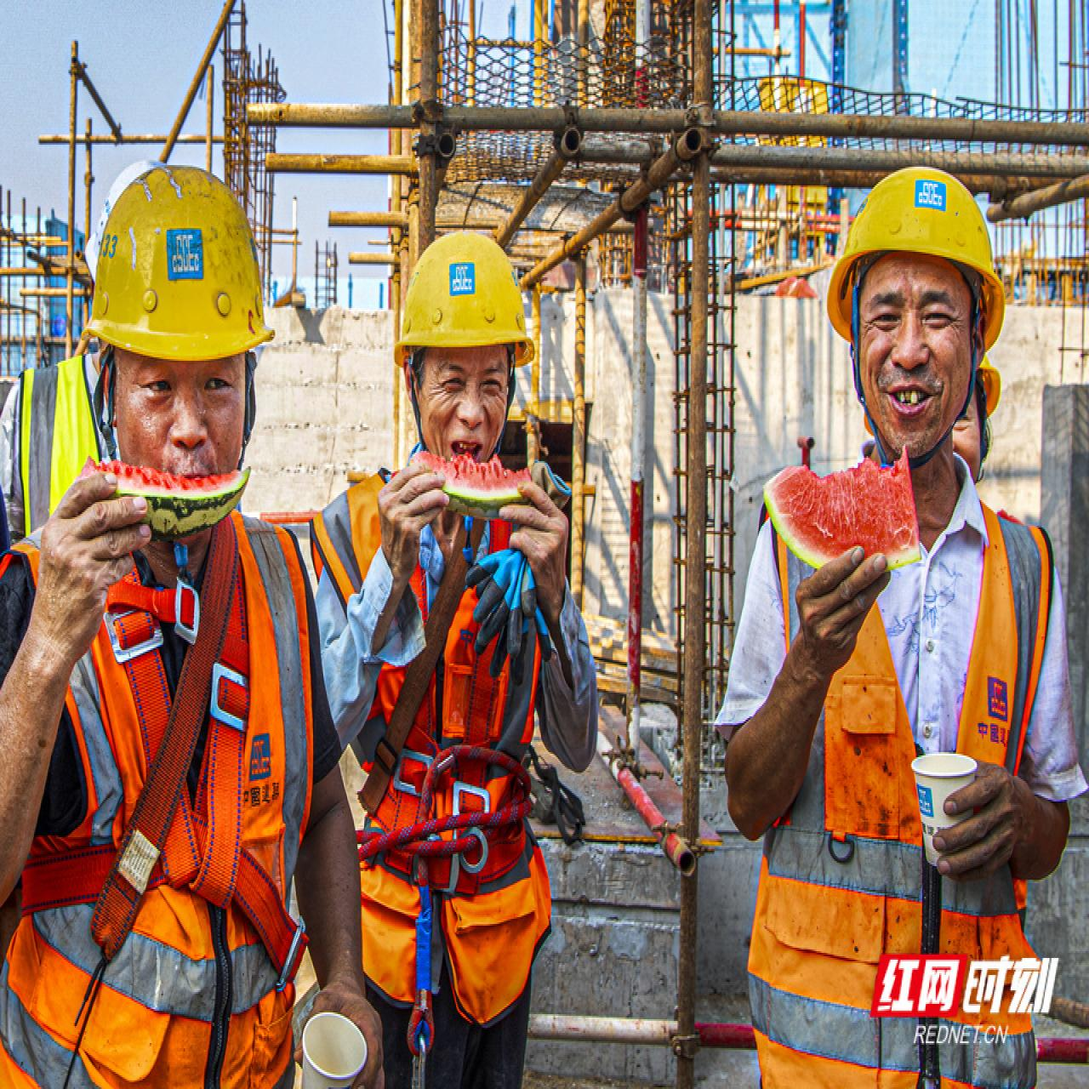Person: (0, 145, 380, 1087), (717, 128, 1088, 1089), (322, 196, 624, 1089)
Safety_Vest: (9, 481, 316, 1089), (768, 472, 1045, 1089), (346, 464, 566, 1015)
